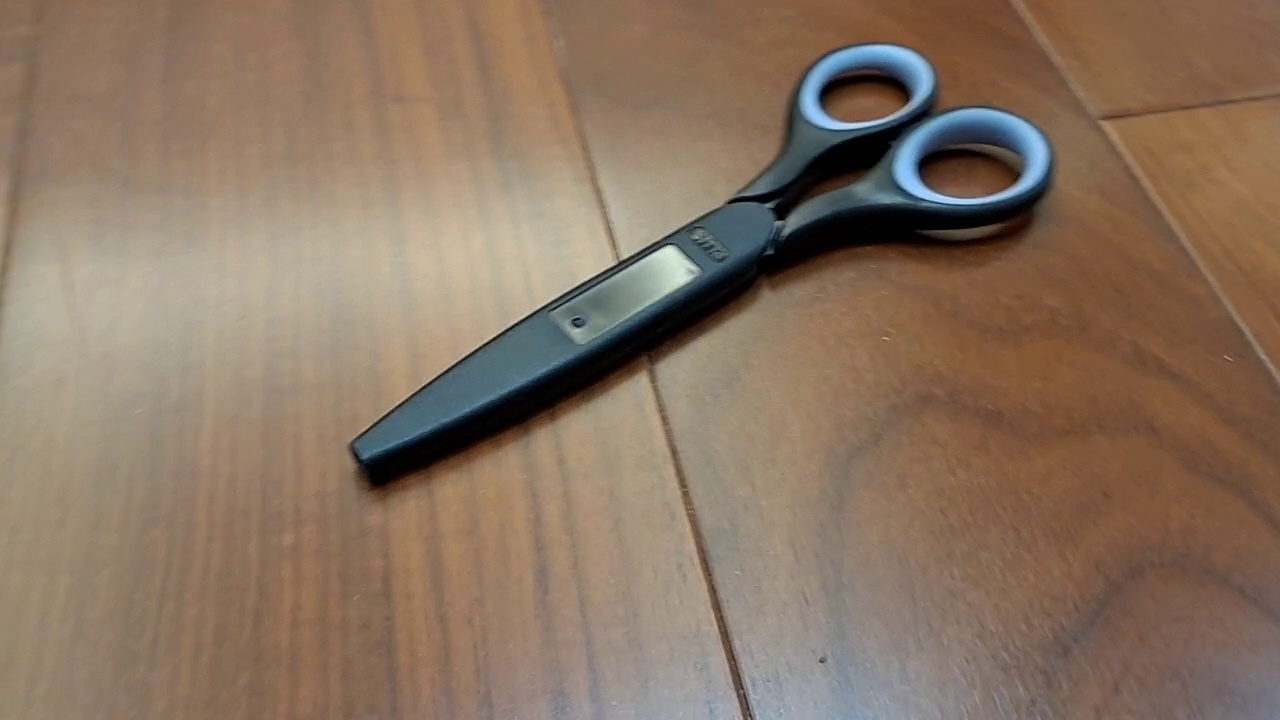scissors: (346, 41, 1057, 492)
